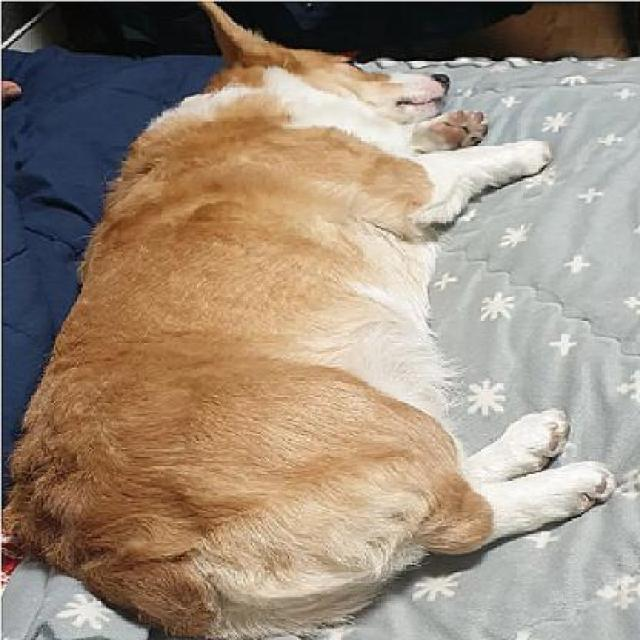Dog: (3, 3, 620, 639)
